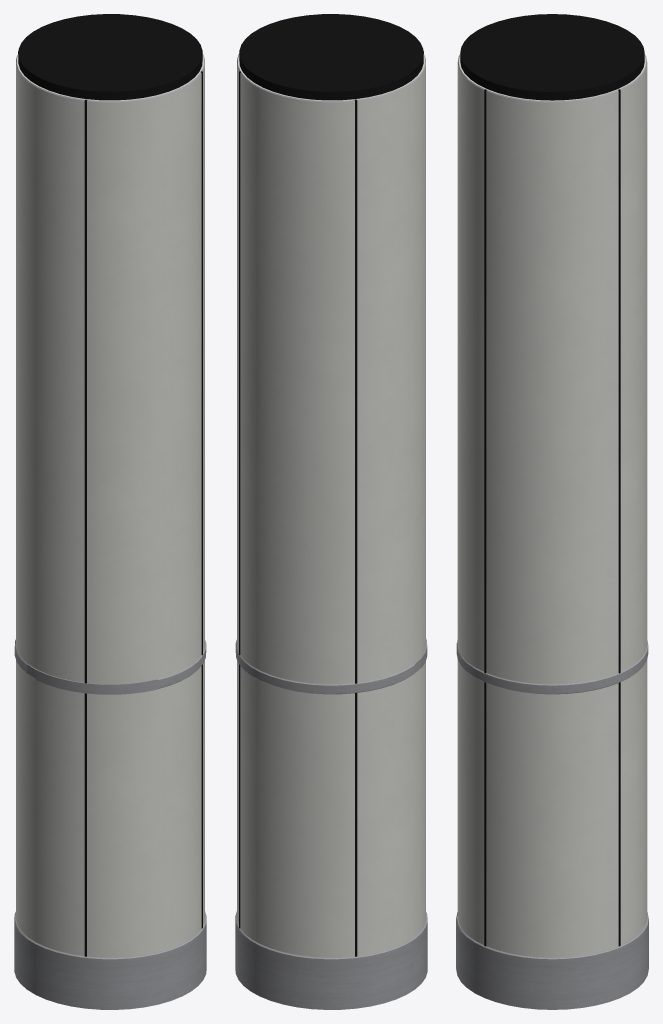
The model's file is gteki_column_round_d600_h3200.glb.
3 views of the same model, side by side, from view 1: azimuth 30°, elevation 25°; view 2: azimuth 150°, elevation 25°; view 3: azimuth 270°, elevation 25° (orthographic).
Parts seen in each view (by area): view 1: VIS_body, VIS_trim; view 2: VIS_body, VIS_trim; view 3: VIS_body, VIS_trim.
Part boxes in pixels (x1,y1,x2,y2): VIS_body: [16, 54, 204, 957]; VIS_trim: [14, 14, 206, 1009]; VIS_body: [237, 54, 425, 957]; VIS_trim: [235, 14, 427, 1009]; VIS_body: [457, 54, 647, 957]; VIS_trim: [456, 14, 648, 1009].
Size of what is drawn, in the model's own units: 0.61 by 3.2 by 0.61.
3 materials, 2 textured.
